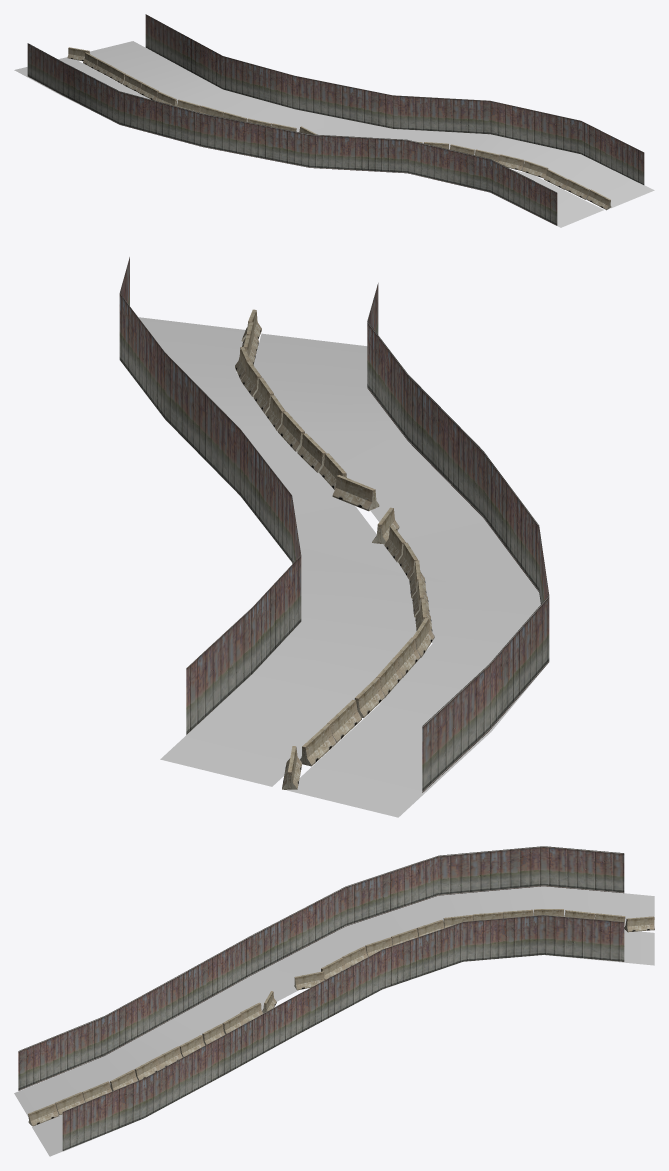
Rendered from highway.FBX.
The picture shows the model from 3 angles, top to bottom: view 1: azimuth 30°, elevation 25°; view 2: azimuth 150°, elevation 25°; view 3: azimuth 270°, elevation 25°; orthographic projection. The views are drawn at different scales.
Parts seen in each view (by area): view 1: highway; view 2: highway; view 3: highway.
Part boxes in pixels (box(x1,y1,x2,y2)): highway: box(14, 14, 654, 227); highway: box(119, 257, 549, 817); highway: box(14, 846, 654, 1156).
Bounding box in the file's own units: 3963 × 701 × 4757.
